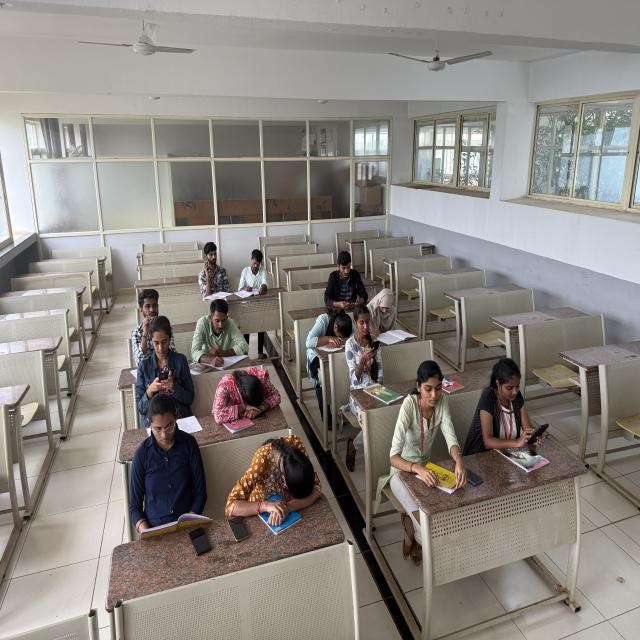Reading: (128, 392, 215, 534), (392, 357, 461, 486)
Sleeping: (240, 431, 332, 522), (196, 359, 314, 429), (294, 295, 351, 358)
Using Phone: (478, 341, 572, 459), (140, 318, 194, 404), (320, 246, 371, 308), (176, 236, 232, 288), (346, 306, 378, 377)
Writing: (186, 296, 262, 373), (368, 278, 427, 349), (229, 242, 289, 301)
